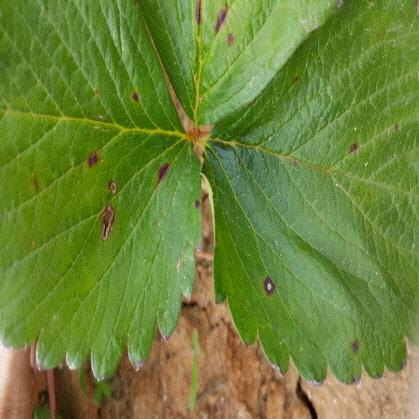Leaf Spot: (199, 0, 418, 386), (0, 0, 201, 381), (132, 0, 343, 125)
